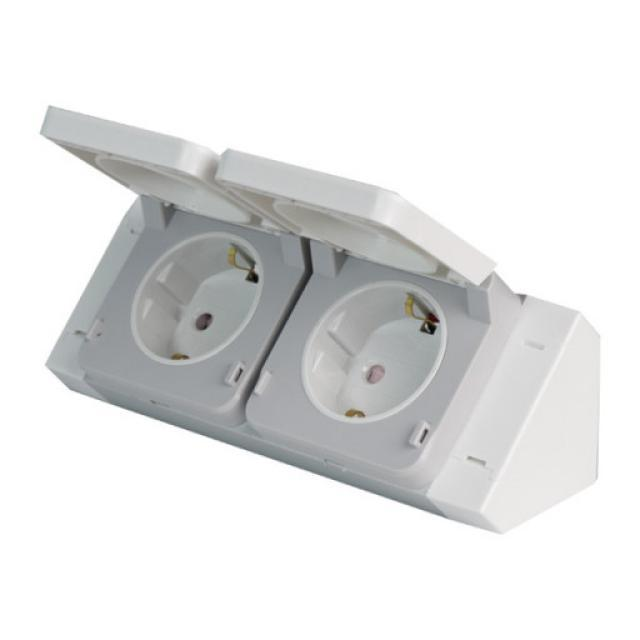typeb: (42, 90, 634, 539)
